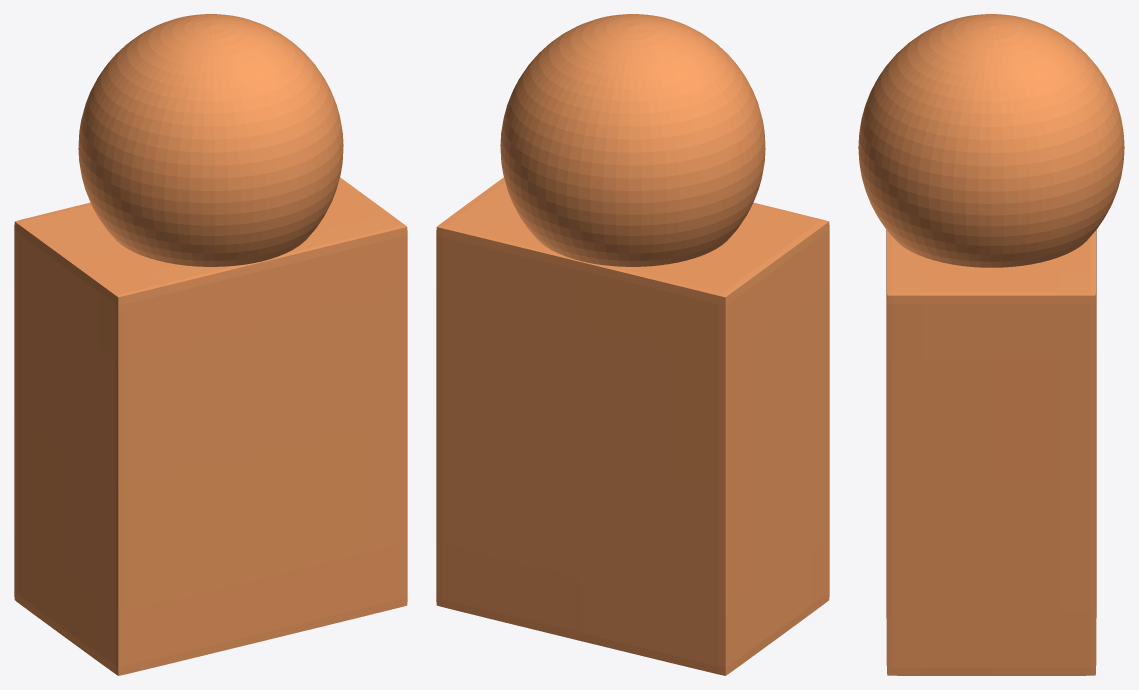
Rendered from Landmark_CrashTorso_Hi_083620.fbx.
The picture shows the model from 3 angles, left to right: view 1: azimuth 30°, elevation 25°; view 2: azimuth 150°, elevation 25°; view 3: azimuth 270°, elevation 25°; orthographic projection.
Parts seen in each view (by area): view 1: Cube, Sphere; view 2: Cube, Sphere; view 3: Cube, Sphere.
Boxes of the visible parts, box(x1,y1,x2,y2) form: Cube: box(14, 177, 407, 675); Sphere: box(78, 14, 343, 266); Cube: box(436, 177, 829, 675); Sphere: box(500, 14, 765, 266); Cube: box(886, 230, 1096, 675); Sphere: box(858, 14, 1124, 267).
Size of the model in its own units: 8 by 15.19 by 6.32.
